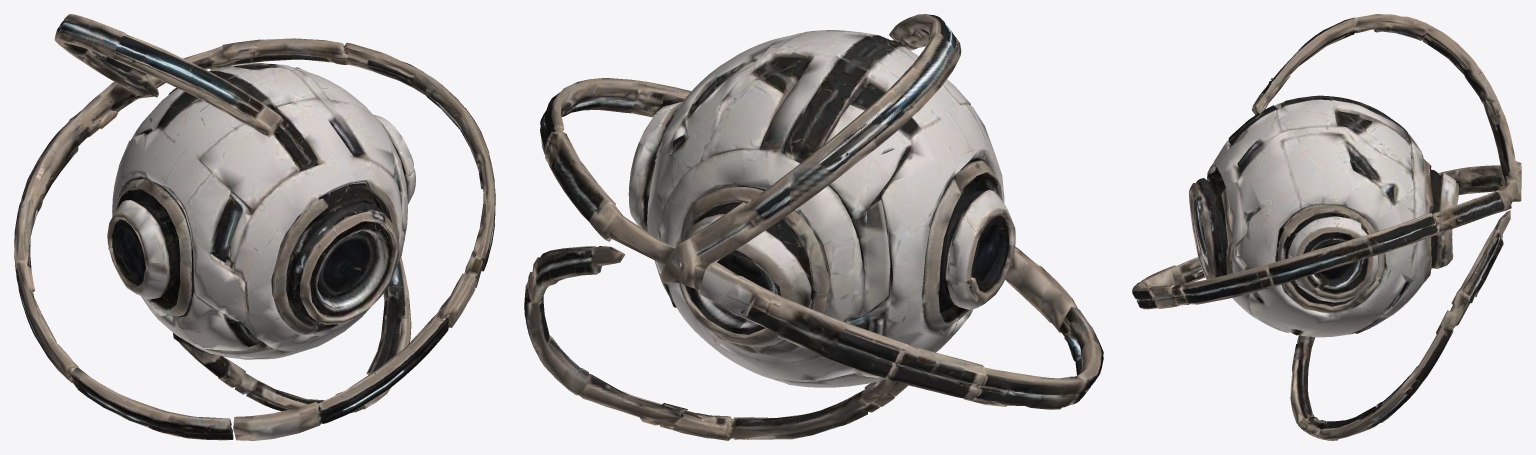
The model's file is spark.glb.
3 views of the same model, side by side, from view 1: azimuth 30°, elevation 25°; view 2: azimuth 150°, elevation 25°; view 3: azimuth 270°, elevation 25° (orthographic). The views are drawn at different scales.
Size of the model in its own units: 1.9 by 1.79 by 1.9.
Materials: 1 (1 with a texture image).
